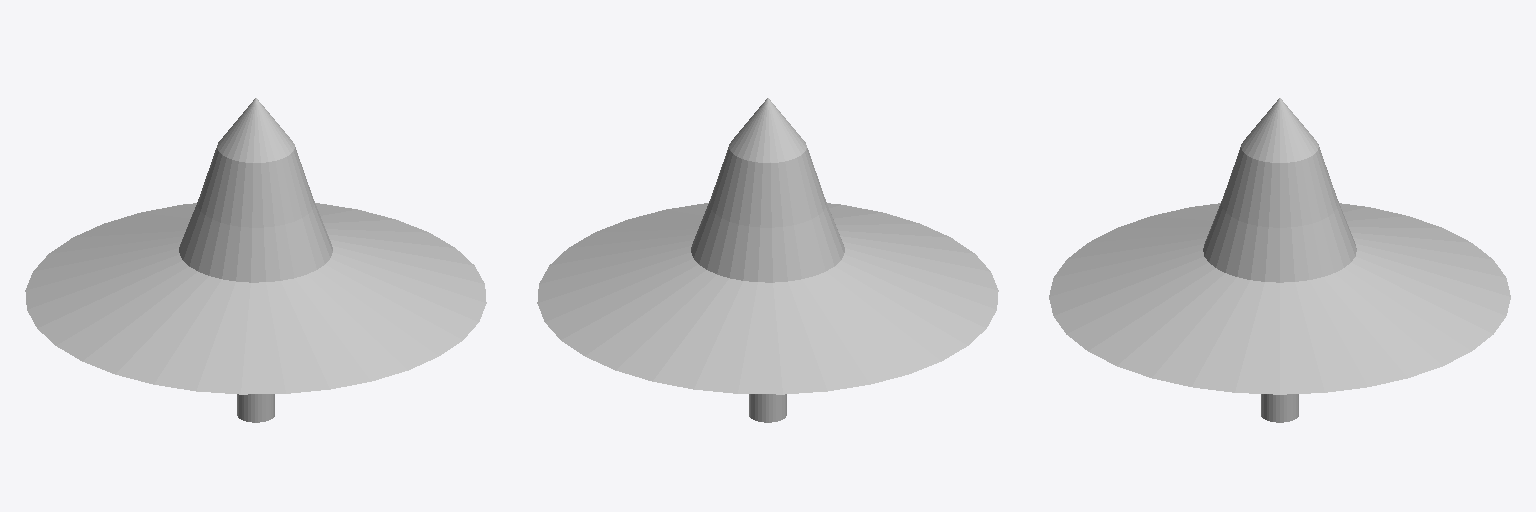
File: soucoupe-support.obj
3 renders of one model, left to right at view 1: azimuth 30°, elevation 25°; view 2: azimuth 150°, elevation 25°; view 3: azimuth 270°, elevation 25°, orthographic.
Visible parts, largest first — view 1: soucoupe_Cylinder; view 2: soucoupe_Cylinder; view 3: soucoupe_Cylinder.
Part boxes in pixels (left/top/right/bottom): soucoupe_Cylinder: left=25, top=98, right=486, bottom=422; soucoupe_Cylinder: left=537, top=98, right=998, bottom=422; soucoupe_Cylinder: left=1049, top=98, right=1510, bottom=422.
Size of the model in its own units: 8.91 by 6.75 by 8.91.